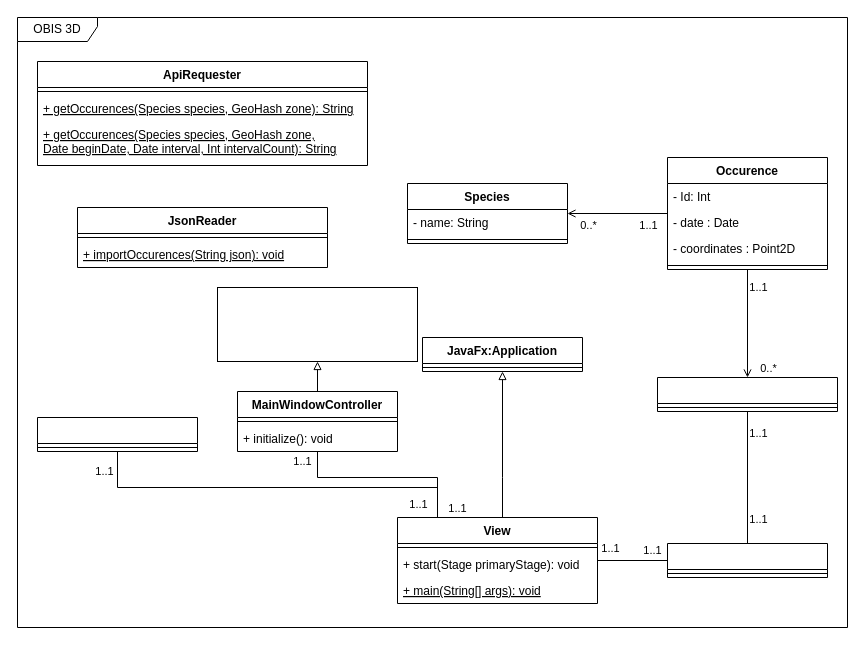
Some shapes in this 865 by 645 pixel diagram are drawn without their labels. The shapes that lost their labels are listed below. From the top down, each one's centre as x and y in pixels, then its label:
pixel 317 324: <<Interface>> JavaFx:Initializable
pixel 747 394: Model
pixel 117 434: EarthView
pixel 747 560: Controller
